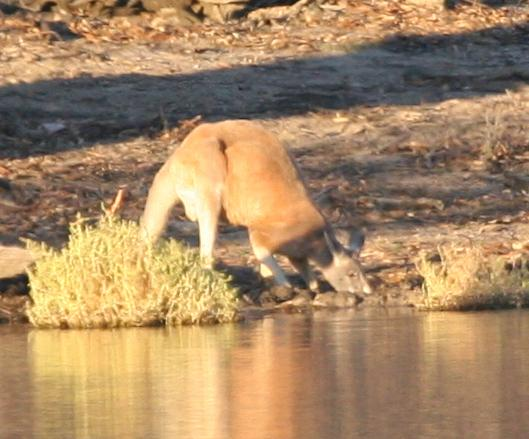Red kangaroo: (134, 117, 374, 304)
